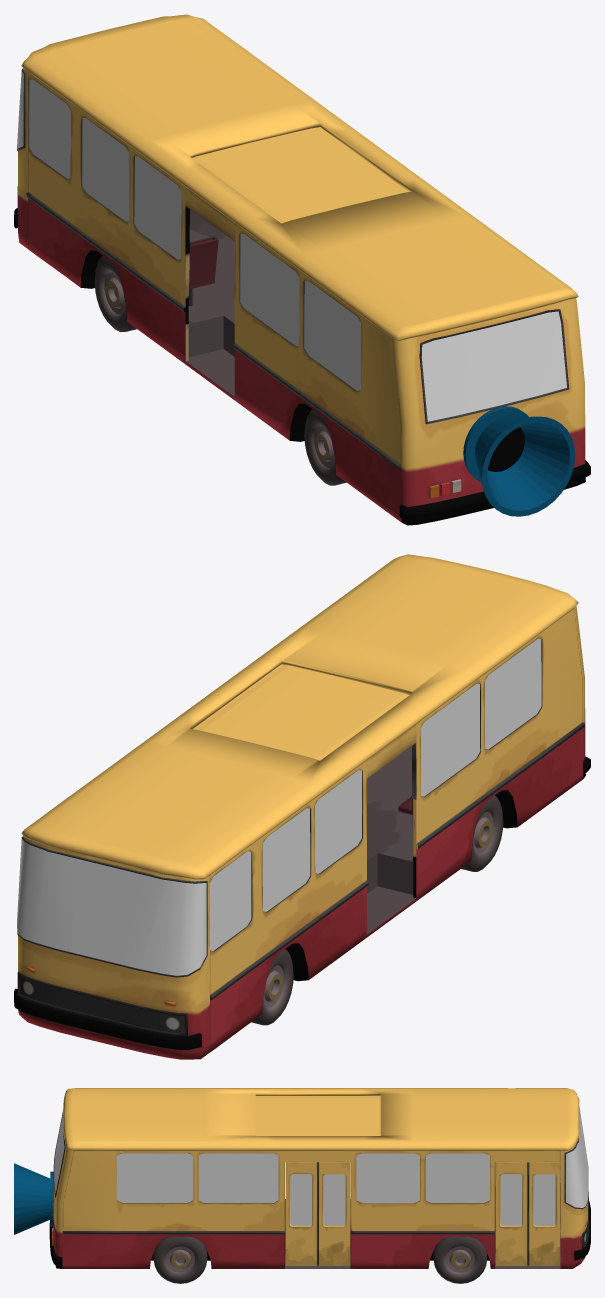
File: bussy.fbx
The picture shows the model from 3 angles, top to bottom: view 1: azimuth 30°, elevation 25°; view 2: azimuth 150°, elevation 25°; view 3: azimuth 270°, elevation 25°; orthographic projection. The views are drawn at different scales.
Parts seen in each view (by area): view 1: bus-hull, bus.windows, Sundoor, Rocket booster, wheel-front-L, wheel-back-L, seats; view 2: bus-hull, bus.windows, Sundoor, bus-lights, wheel-back-L, wheel-front-L; view 3: bus-hull, bus.windows, Sundoor, doors-first-windows, doors-second-windows, doors-first-windows.001, doors-second-windows.001, Rocket booster, wheel-back-R, wheel-front-R.
Part boxes in pixels (x1,y1,x2,y2): bus-hull: (14,14,590,525); bus.windows: (17,71,566,421); Sundoor: (192,127,408,223); Rocket booster: (463,406,575,516); wheel-front-L: (94,256,136,332); wheel-back-L: (304,409,346,485); seats: (188,236,218,305); bus-hull: (14,554,590,1059); bus.windows: (17,639,541,975); Sundoor: (193,664,409,760); bus-lights: (19,966,184,1033); wheel-back-L: (461,795,503,871); wheel-front-L: (251,949,293,1025); bus-hull: (49,1088,590,1268); bus.windows: (54,1106,588,1207); Sundoor: (255,1096,380,1135); doors-first-windows: (495,1162,527,1265); doors-second-windows: (285,1162,317,1265); doors-first-windows.001: (528,1162,560,1265); doors-second-windows.001: (318,1162,350,1265); Rocket booster: (14,1163,53,1234); wheel-back-R: (153,1236,207,1283); wheel-front-R: (433,1236,486,1283).
Size of the model in its own units: 326 by 358 by 1293.
